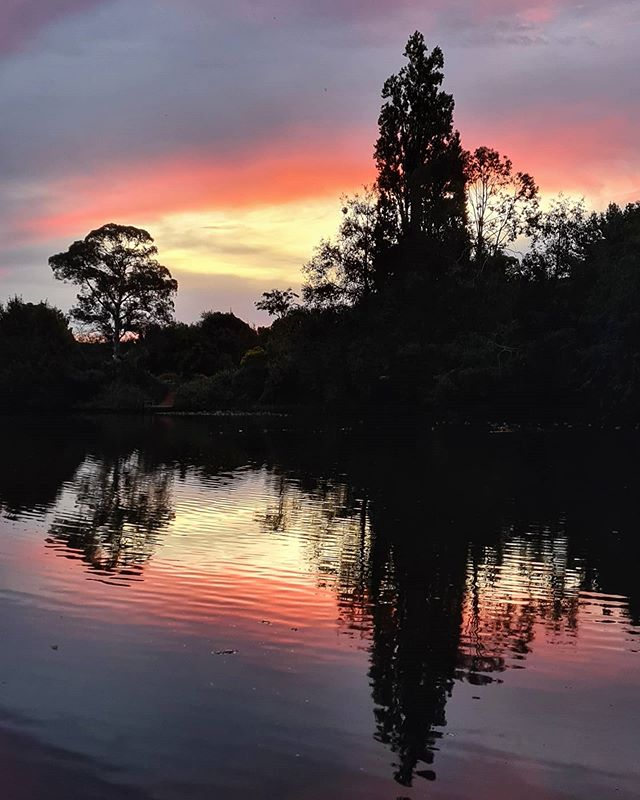river: (15, 432, 640, 800)
sky: (14, 1, 640, 297)
tree: (347, 46, 493, 354), (47, 209, 186, 361)
vegetation: (4, 244, 625, 419)
